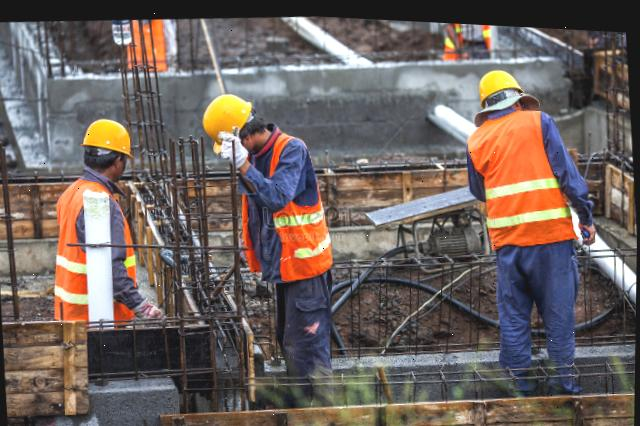helmet: (198, 87, 250, 139), (84, 116, 138, 153), (472, 60, 526, 94)
vest: (39, 170, 147, 331), (464, 108, 579, 248), (236, 140, 343, 282), (120, 15, 172, 74), (447, 18, 495, 38)
